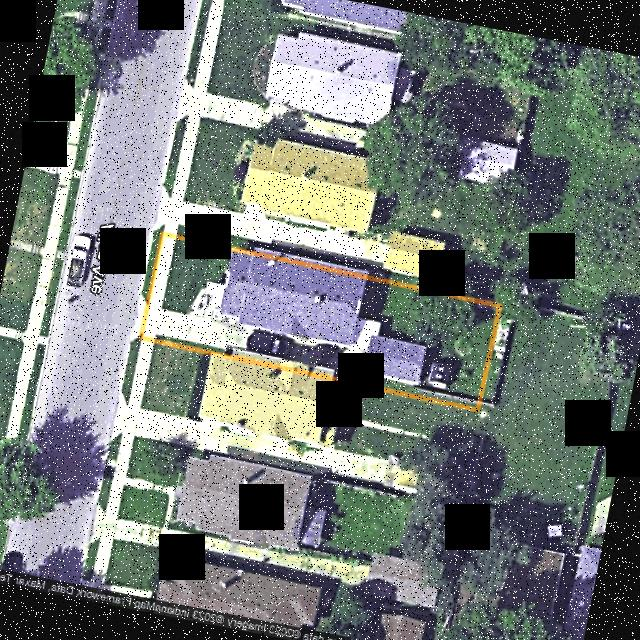Driveway: (155, 280, 380, 372)
Extra Driveway: (130, 295, 144, 336)
Extra Lawn: (141, 232, 161, 301)
House: (218, 252, 365, 344)
Other: (361, 334, 426, 383), (425, 361, 452, 388)
Sidewalk: (144, 236, 173, 336)
